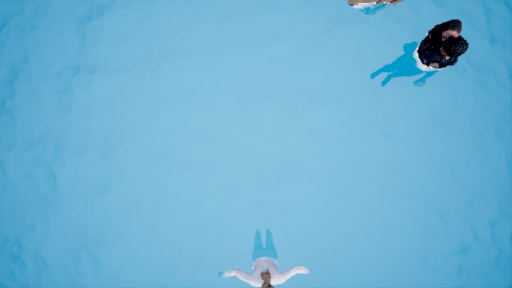person: (370, 17, 471, 94), (235, 223, 296, 288)
